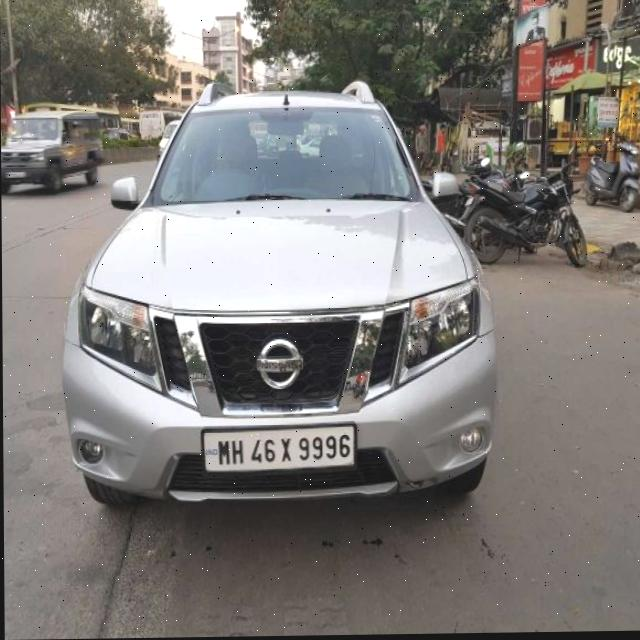plate: (200, 423, 356, 473)
